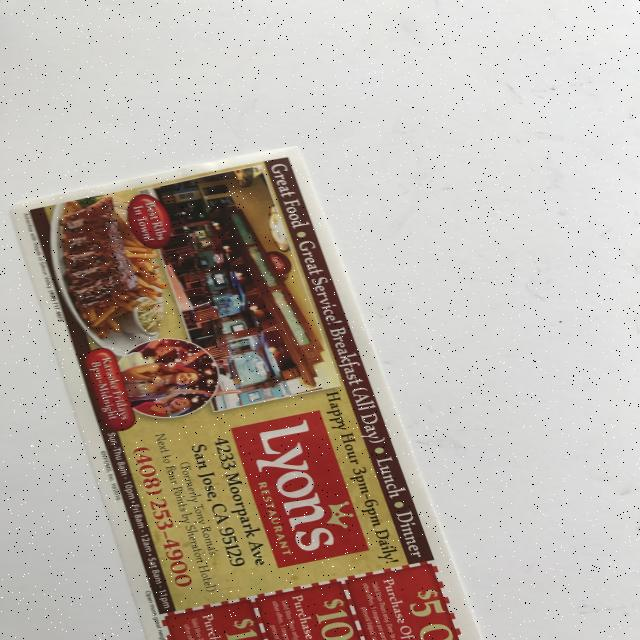paper: (6, 148, 484, 640)
